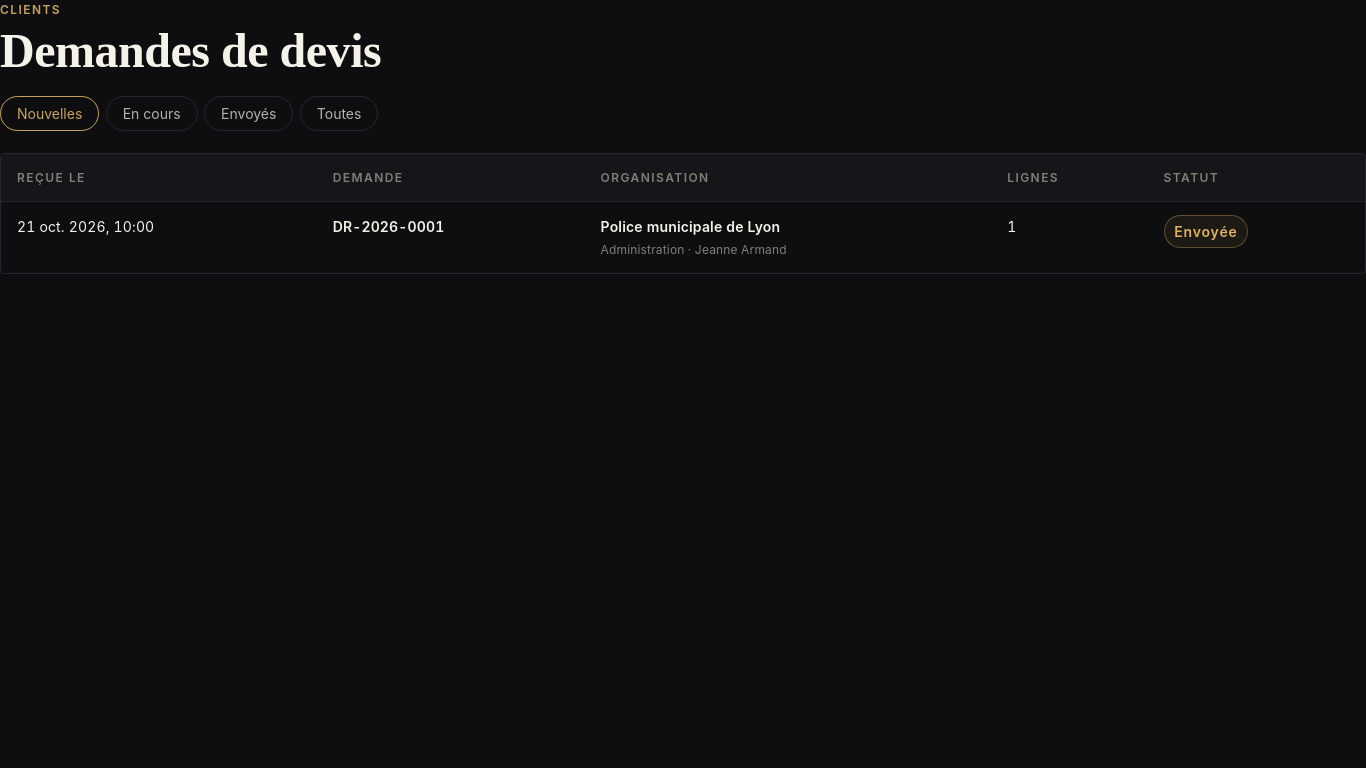
Scenario: admin/devis.vue (story 12.8c) › shows the lines with the public price they start from, and the organisation's terms
What coordinates should you click on to do the following:
click the row that starts with "21 oct. 2026, 10:00"
I would click on:
 (683, 237)
Its box is [1,202,1365,273].
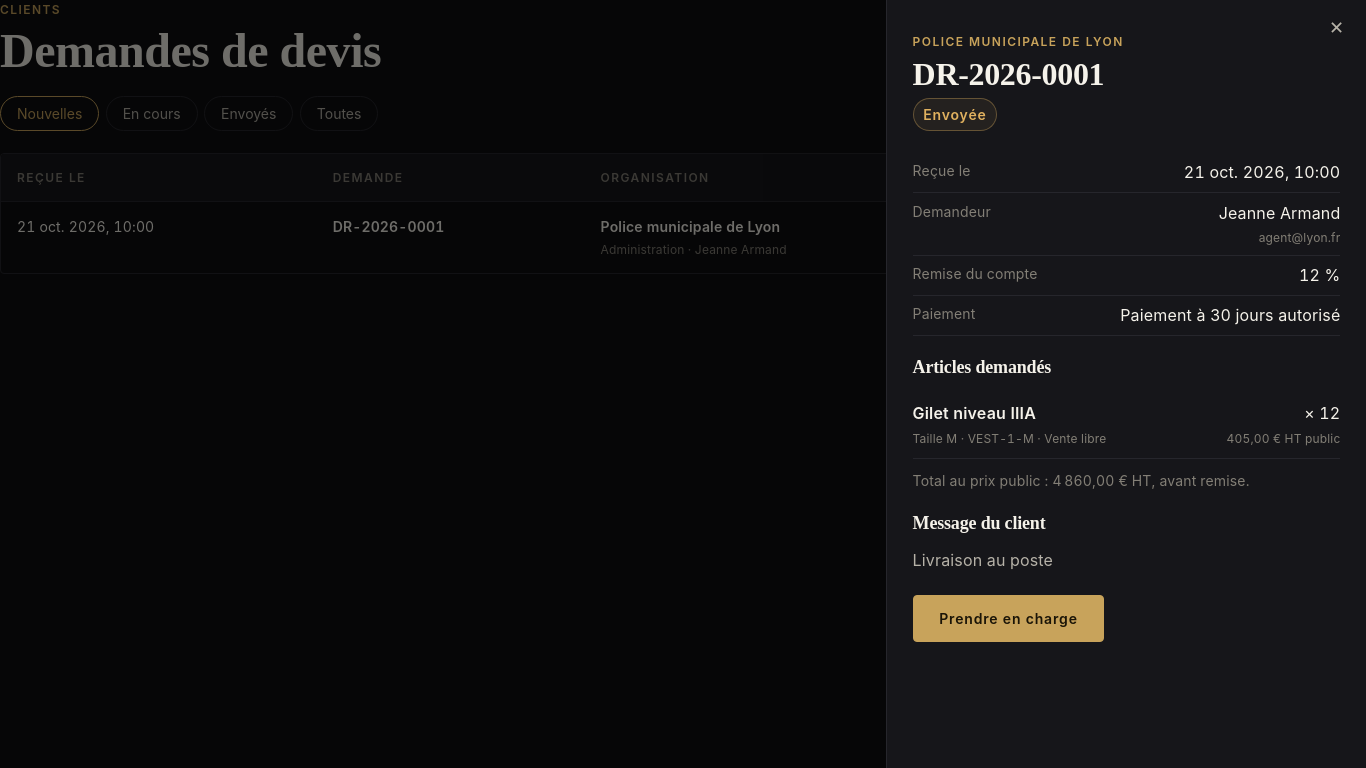
Expected: the dialog with class "drawer" shows "Gilet niveau IIIA", [913,403,1036,423]
Expected: the dialog with class "drawer" shows "Paiement à 30 jours autorisé", [1120,305,1340,325]
Expected: the dialog with class "drawer" shows "Livraison au poste", [913,550,1053,570]
